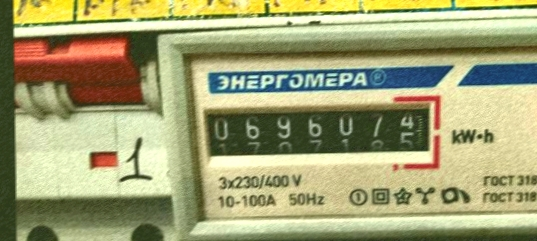0: (211, 115, 229, 140), (337, 110, 353, 136)
4: (399, 108, 413, 129)
5: (399, 130, 413, 149)
6: (242, 113, 260, 139), (306, 110, 322, 138)
7: (368, 111, 384, 137)
9: (274, 113, 291, 139)
screen: (197, 92, 444, 172)
